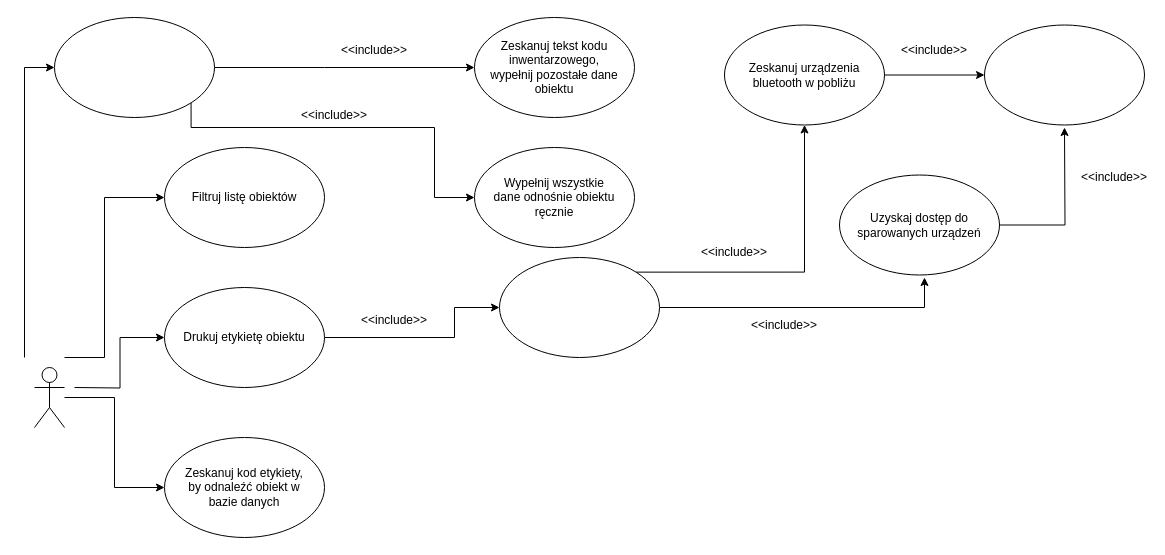
Some shapes in this 1165 by 555 pixel diagram are drawn without their labels. The shapes that lost their labels are listed below. From the top down, each one's centre as x and y in pixels, then its label:
At point (134, 67): "Dodaj obiekt do spisu".
At point (1064, 74): "Uruchom bluetooth".
At point (579, 307): "Wyślij plik etykiety do drukarki".
At point (49, 397): "Użytkownik".
